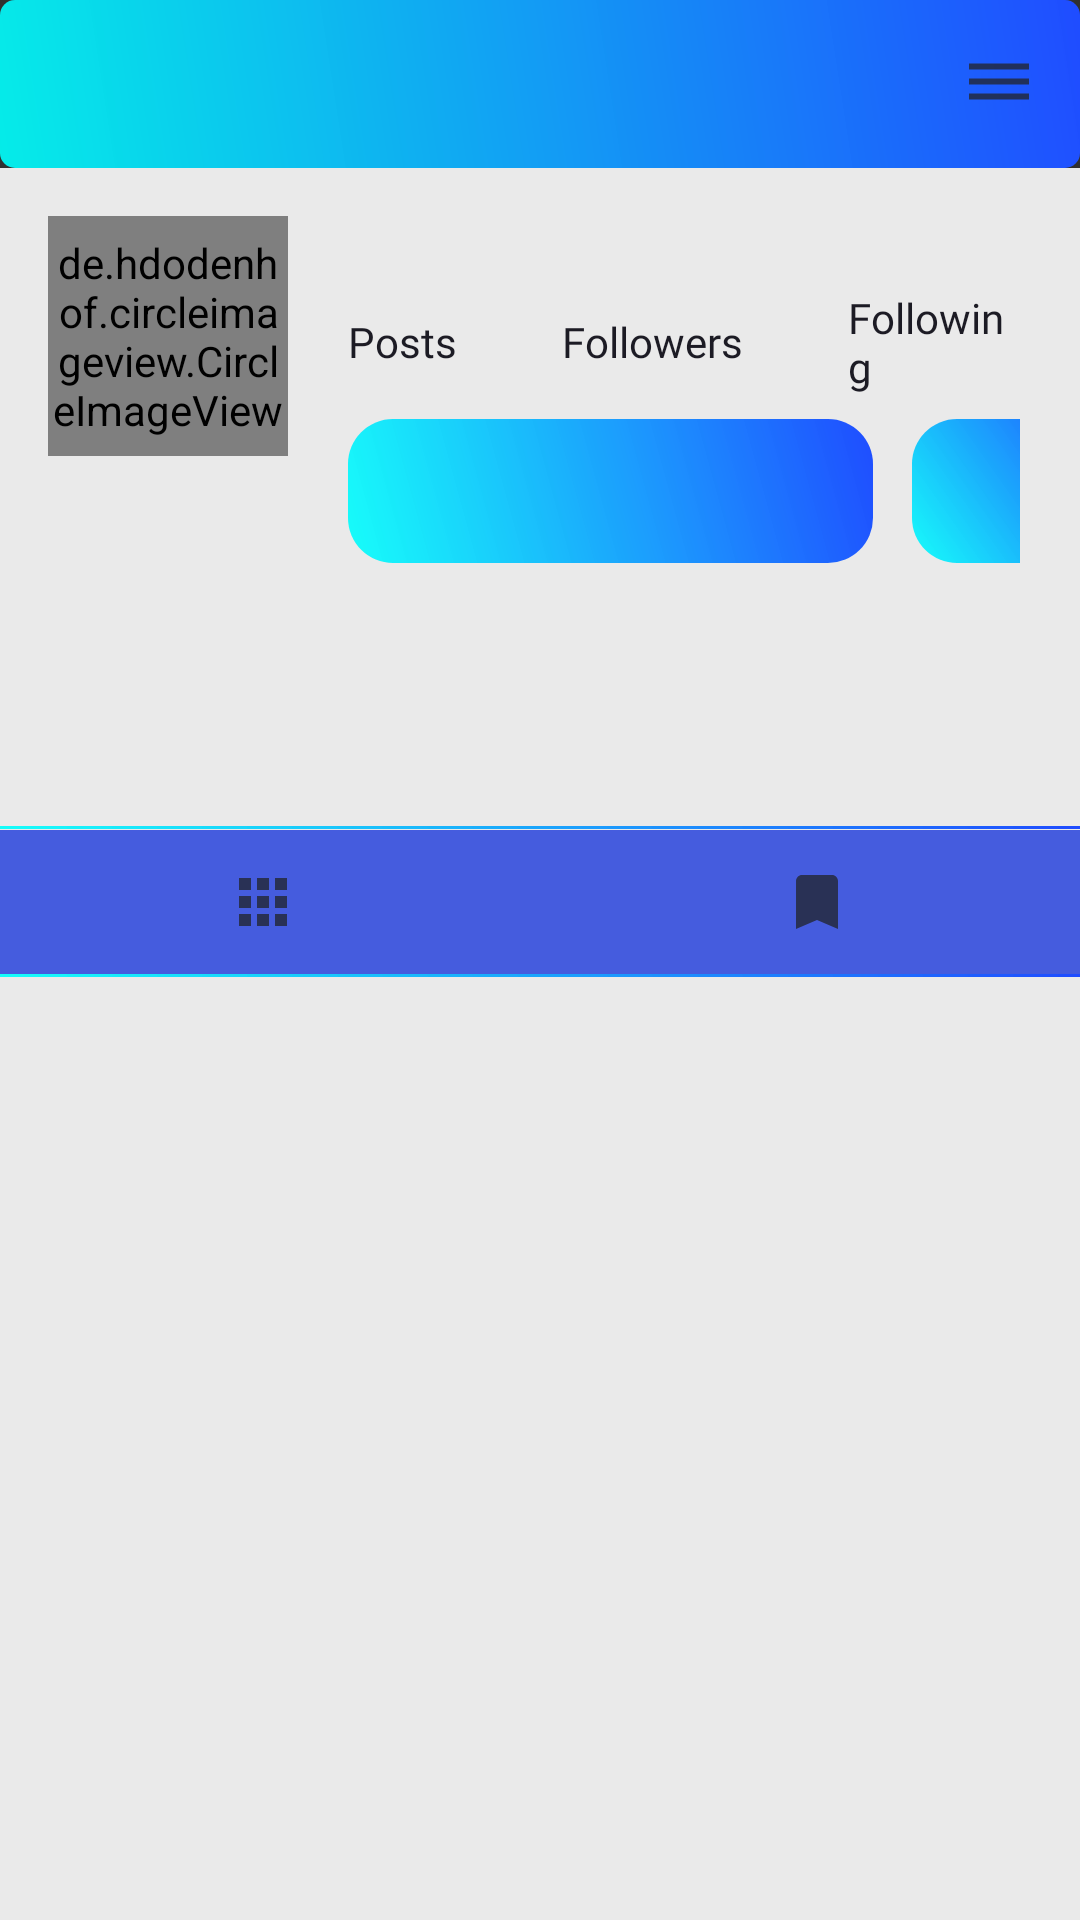

Icon bounding boxes for this 1080px x 1920px phone screenshot, format (x1, y1, x2, y2):
options: (969, 63, 1029, 100)
